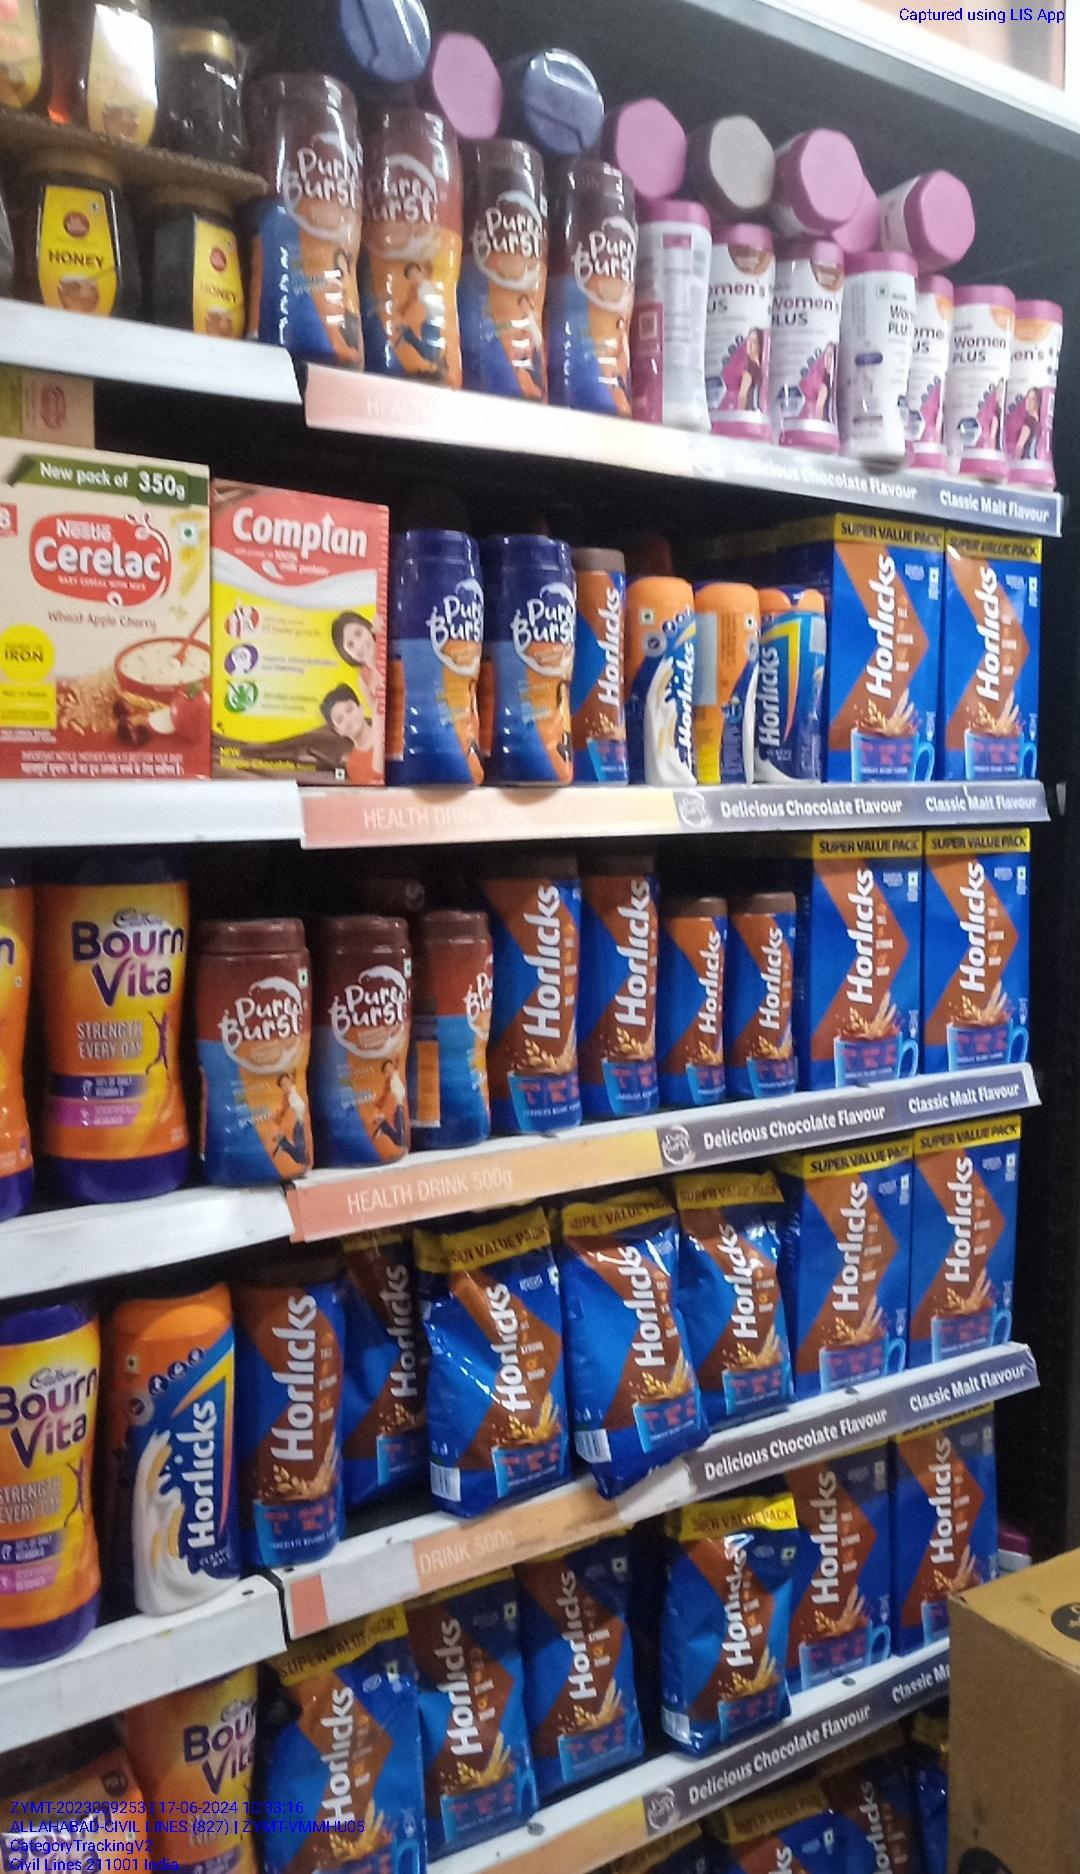HORLICK_CHOCOLATE_1_KG_PACK: (842, 516, 946, 790), (815, 833, 920, 1084), (807, 1155, 911, 1400), (927, 830, 1029, 1077), (917, 1115, 1013, 1363), (951, 528, 1040, 784), (802, 1457, 895, 1686), (900, 1417, 995, 1626)
HORLICK_CHOCOLATE_500_G_PACK: (237, 1259, 341, 1566), (508, 853, 590, 1129), (593, 852, 667, 1120)
HORLICK_CHOCOLATE_750_G_POUCH: (266, 1633, 416, 1874), (439, 1225, 560, 1521), (578, 1192, 690, 1485), (424, 1573, 532, 1848), (538, 1541, 649, 1803), (684, 1499, 793, 1752), (695, 1166, 788, 1420)
